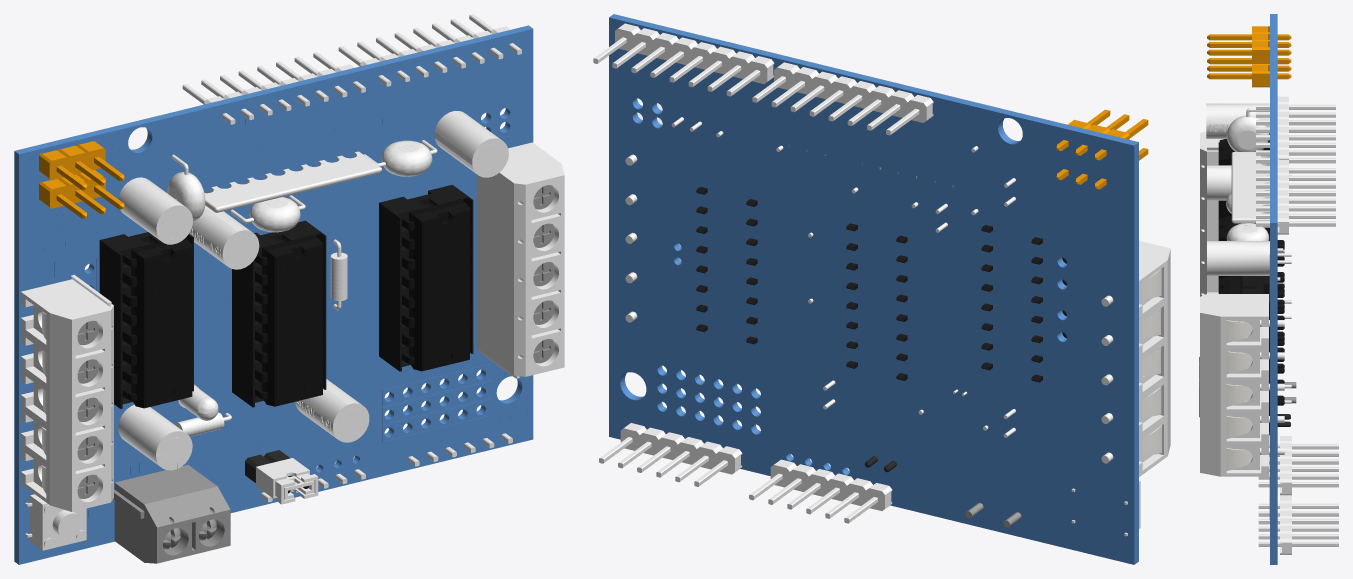
The model's file is shield escudo v84.glb.
3 views of the same model, side by side, from view 1: azimuth 30°, elevation 25°; view 2: azimuth 150°, elevation 25°; view 3: azimuth 270°, elevation 25° (orthographic). The views are drawn at different scales.
Visible parts, largest first — view 1: SOLID, bornera 5 pines v22 (×2), L293D v1 v2 (×2), base_16_pines v23 (×3), capacitor 16 v 100uf v1 (×5), sn74hc595 v2, bornera v3, header_8 v1 (×2), capacitor_v2 v3 (×3), header_3_pines v2 (×2), resistencia_matriz v5, Boton_pulsador v3 (+4 smaller); view 2: SOLID, header_8 v1 (×2), header_macho_6pines v2 (×2), bornera 5 pines v22, base_16_pines v23 (×3), header_3_pines v2; view 3: bornera 5 pines v22 (×2), header_8 v1 (×2), header_macho_6pines v2 (×2), SOLID, capacitor 16 v 100uf v1 (×3), header_3_pines v2 (×2), parte de la bornera_modulo_shield v1 (×5), resistencia_matriz v5, capacitor_v2 v3 (×2), base_16_pines v23 (×2), L293D v1 v2 (×2), sn74hc595 v2.
Part boxes in pixels (x1,y1,x2,y2): SOLID: (14, 25, 533, 564); bornera 5 pines v22 (×2): (21, 142, 564, 511); L293D v1 v2 (×2): (119, 199, 470, 408); base_16_pines v23 (×3): (99, 185, 473, 408); capacitor 16 v 100uf v1 (×5): (118, 111, 508, 470); sn74hc595 v2: (255, 235, 323, 406); bornera v3: (113, 465, 230, 563); header_8 v1 (×2): (182, 14, 521, 124); capacitor_v2 v3 (×3): (167, 140, 437, 232); header_3_pines v2 (×2): (39, 140, 124, 218); resistencia_matriz v5: (204, 151, 381, 212); Boton_pulsador v3: (25, 494, 86, 550); SOLID: (609, 14, 1138, 564); header_8 v1 (×2): (593, 23, 933, 135); header_macho_6pines v2 (×2): (599, 423, 892, 523); bornera 5 pines v22: (1101, 240, 1170, 476); base_16_pines v23 (×3): (696, 186, 1066, 382); header_3_pines v2: (1056, 109, 1148, 160); bornera 5 pines v22 (×2): (1200, 132, 1284, 476); header_8 v1 (×2): (1256, 96, 1335, 234); header_macho_6pines v2 (×2): (1258, 436, 1338, 554); SOLID: (1269, 14, 1277, 564); capacitor 16 v 100uf v1 (×3): (1206, 103, 1291, 275); header_3_pines v2 (×2): (1207, 26, 1291, 87); parte de la bornera_modulo_shield v1 (×5): (1226, 320, 1252, 470); resistencia_matriz v5: (1231, 152, 1269, 223); capacitor_v2 v3 (×2): (1226, 108, 1283, 251); base_16_pines v23 (×2): (1235, 223, 1284, 431); L293D v1 v2 (×2): (1218, 139, 1242, 293); sn74hc595 v2: (1218, 216, 1239, 280).
Size of the model in its own units: 70 by 53.4 by 19.79.
